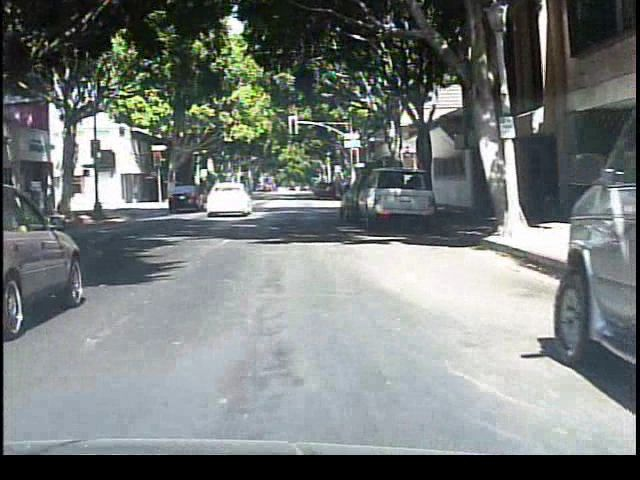person: (203, 170, 226, 212)
